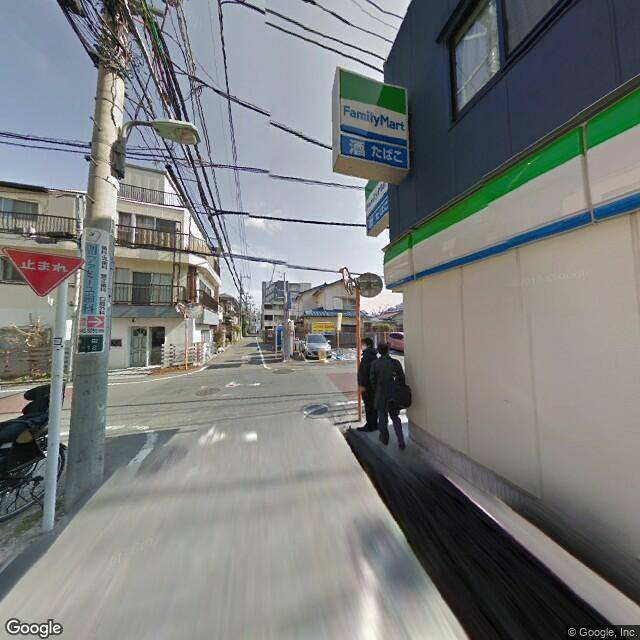family_mart: (381, 82, 637, 290), (333, 65, 406, 151), (364, 174, 390, 224)
